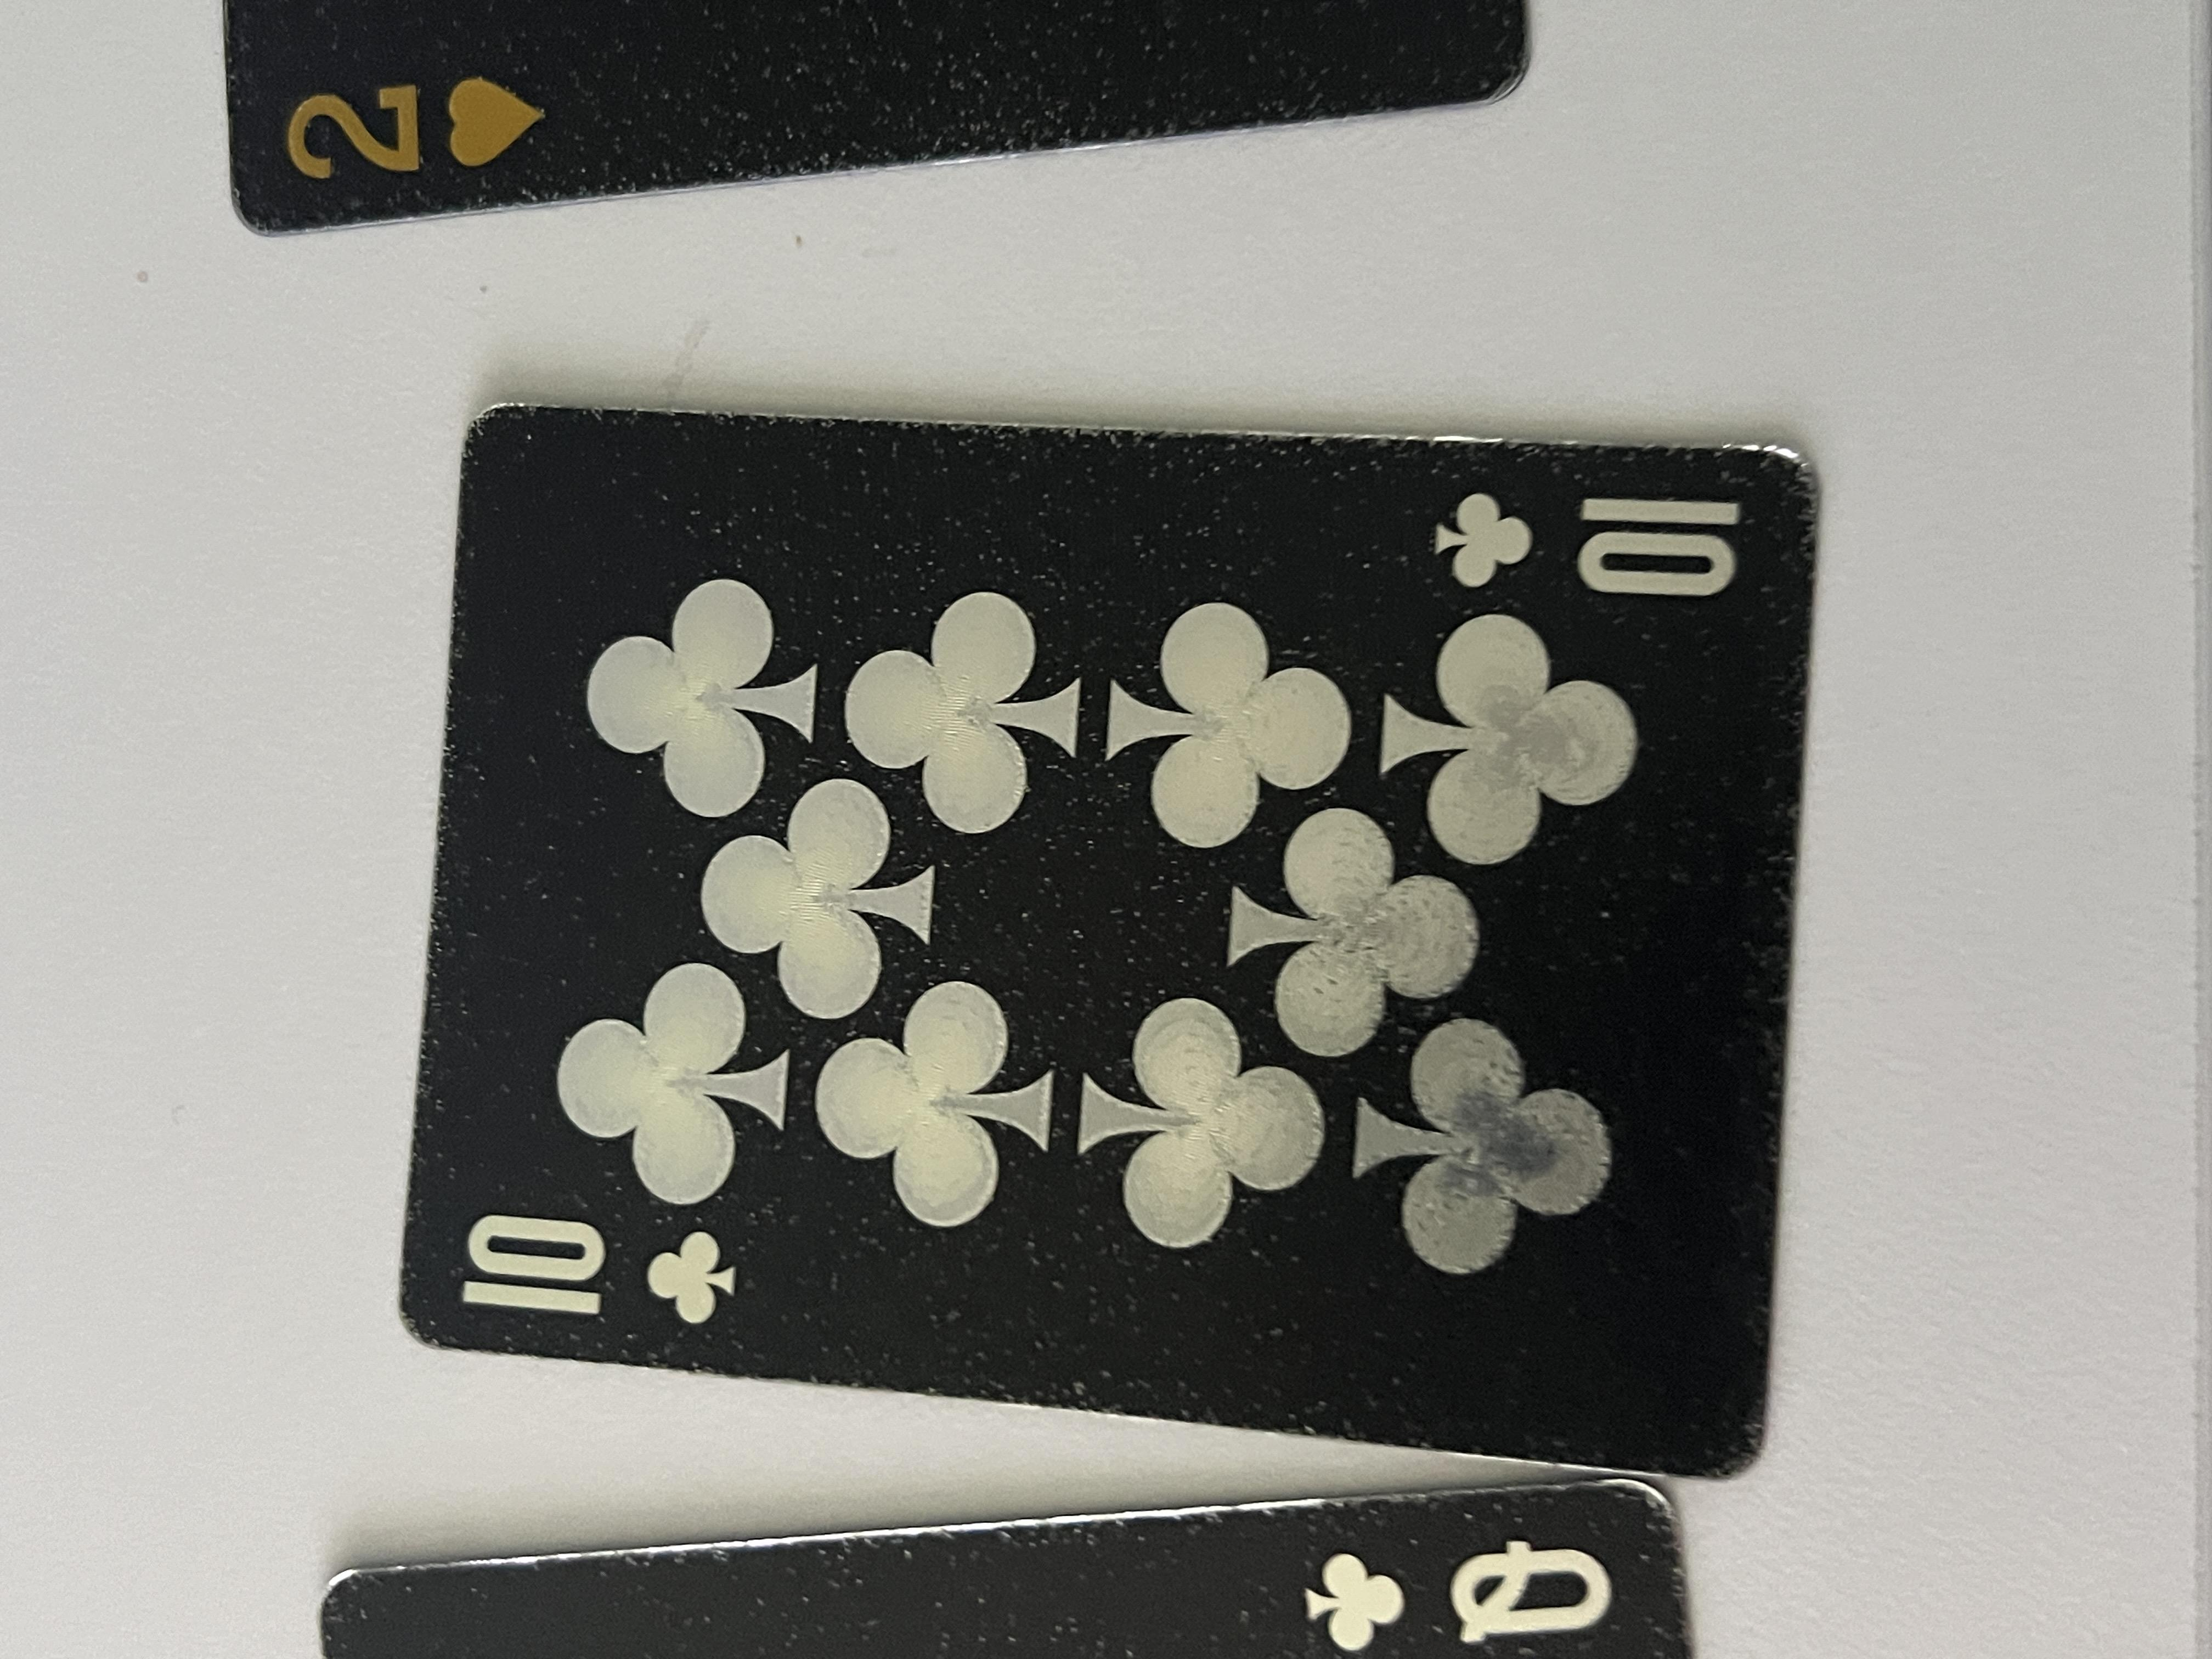10C: (1393, 1060, 1580, 1337), (392, 342, 618, 561)
2H: (1925, 206, 2165, 425)
QC: (0, 953, 186, 1211)
